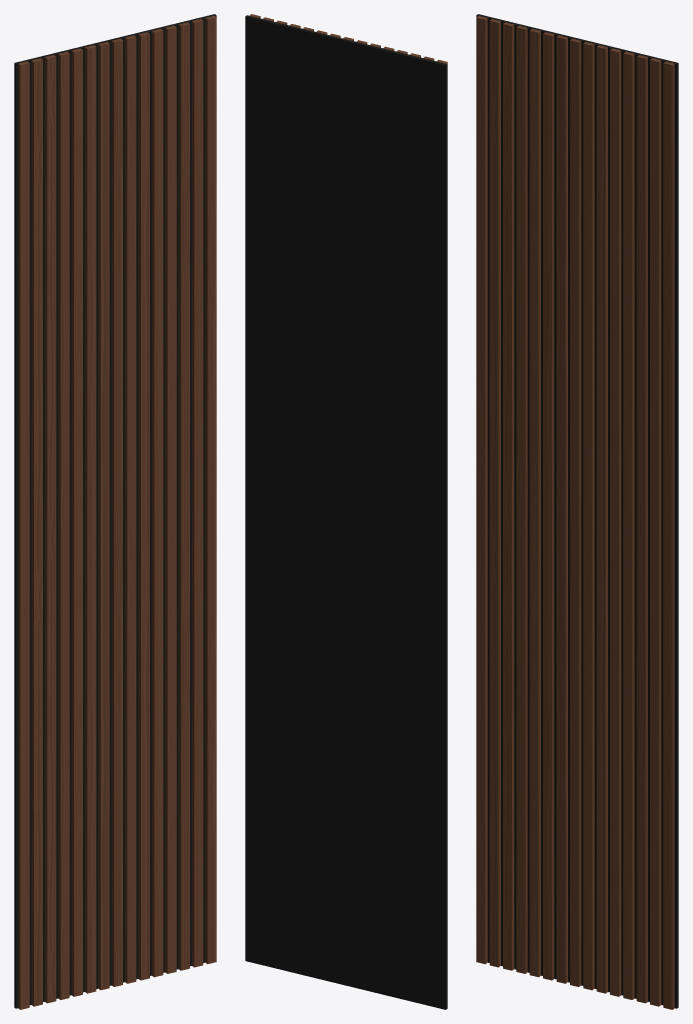
The model's file is panel-classic-walnut.glb.
The picture shows the model from 3 angles, left to right: view 1: azimuth 30°, elevation 25°; view 2: azimuth 150°, elevation 25°; view 3: azimuth 330°, elevation 25°; orthographic projection.
Visible parts, largest first — view 1: Lamellen-Wandpaneel classic walnut; view 2: Lamellen-Wandpaneel classic walnut; view 3: Lamellen-Wandpaneel classic walnut.
Boxes of the visible parts, <box> form: Lamellen-Wandpaneel classic walnut: <box>14,14,216,1009</box>; Lamellen-Wandpaneel classic walnut: <box>245,14,447,1009</box>; Lamellen-Wandpaneel classic walnut: <box>476,14,678,1009</box>.
Bounding box in the file's own units: 0.6 × 2.7 × 0.021.
Materials: 2 (1 with a texture image).
